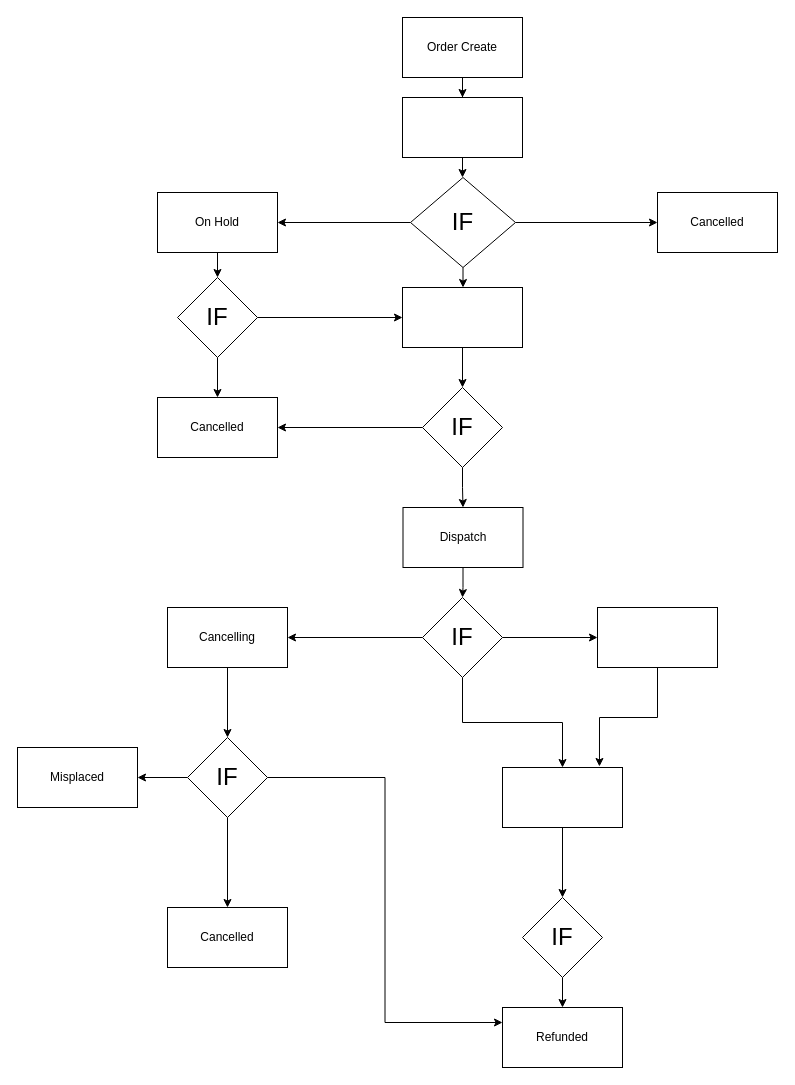
The diagram is 795 pixels wide and 1085 high, and some of its shapes have lost their labels. The centre of each missing label's shape, as x and y in pixels:
"Completed" belongs at (562,797).
"Pending Payment" belongs at (657,637).
"Processing" belongs at (462,317).
"Verification" belongs at (462,127).
